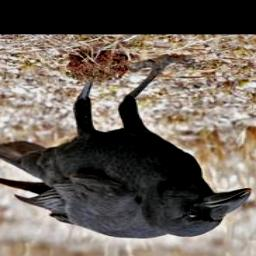Crow: (0, 55, 252, 240)
